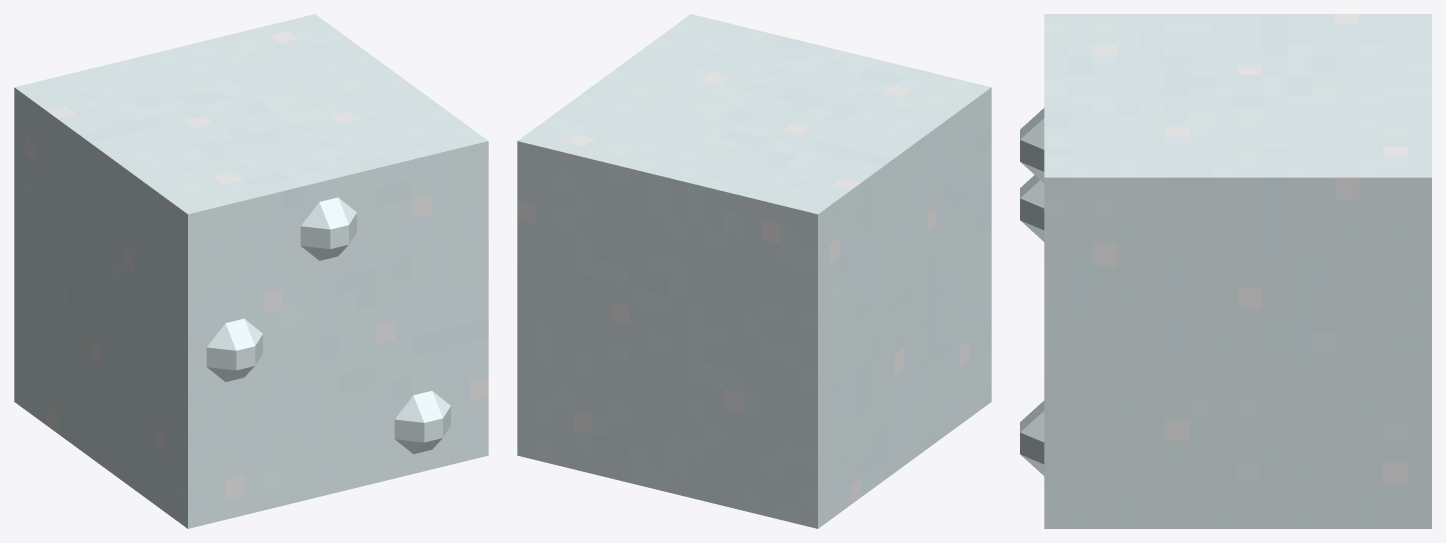
File: snow-green.glb
The picture shows the model from 3 angles, left to right: view 1: azimuth 30°, elevation 25°; view 2: azimuth 150°, elevation 25°; view 3: azimuth 270°, elevation 25°; orthographic projection. The views are drawn at different scales.
Parts seen in each view (by area): view 1: snow-green; view 2: snow-green; view 3: snow-green.
Part boxes in pixels (bbox=[...]): snow-green: bbox=[14, 14, 488, 528]; snow-green: bbox=[517, 14, 991, 528]; snow-green: bbox=[1020, 14, 1431, 528].
Size of the model in its own units: 1 by 1 by 1.06.
1 material, 1 textured.
